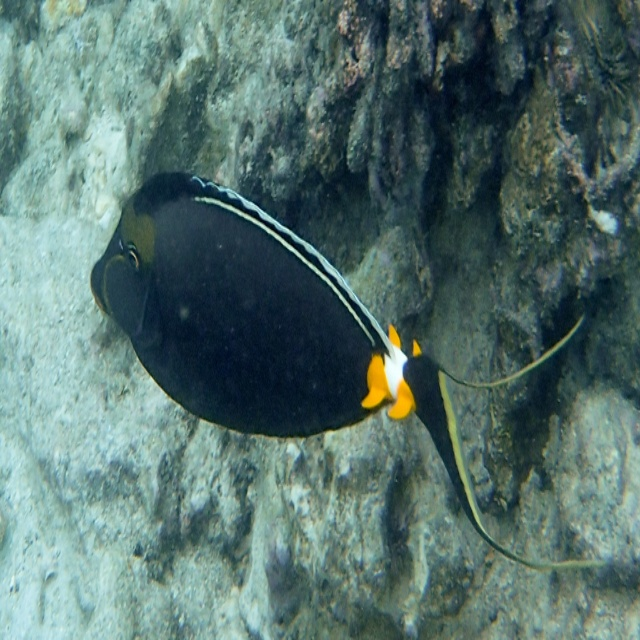Fish: (80, 200, 440, 471)
